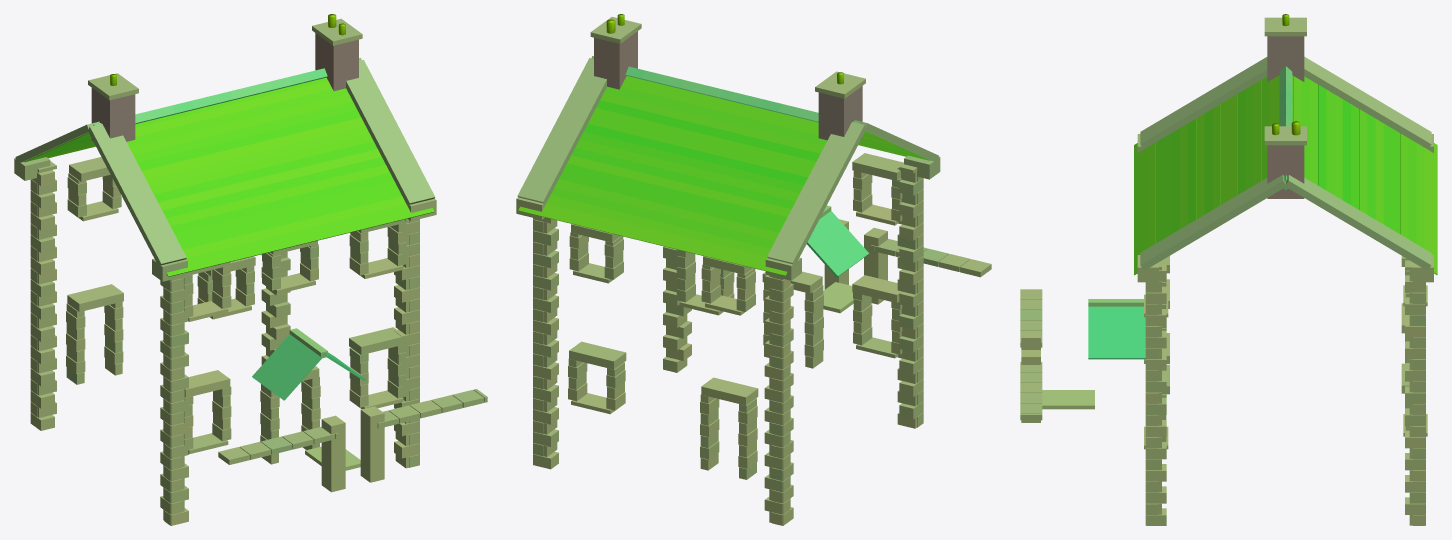
File: SM_Bld_058_Stone.glb
The picture shows the model from 3 angles, left to right: view 1: azimuth 30°, elevation 25°; view 2: azimuth 150°, elevation 25°; view 3: azimuth 270°, elevation 25°; orthographic projection.
Parts seen in each view (by area): view 1: SM_Bld_058_Stone; view 2: SM_Bld_058_Stone; view 3: SM_Bld_058_Stone.
Part boxes in pixels (bbox=[...]): SM_Bld_058_Stone: bbox=[14, 14, 487, 525]; SM_Bld_058_Stone: bbox=[516, 14, 991, 525]; SM_Bld_058_Stone: bbox=[1020, 14, 1437, 525].
Size of the model in its own units: 7.73 by 10.71 by 10.23.
